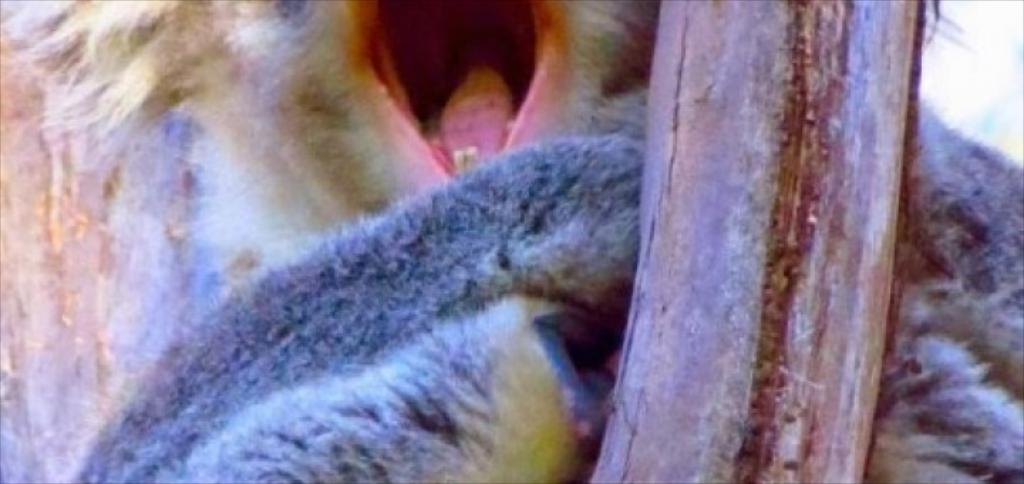Animal: (0, 0, 1022, 482)
